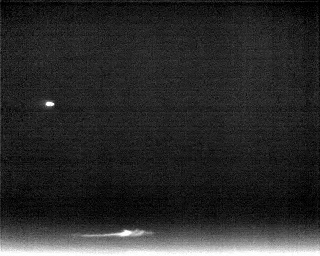AIRPLANE: (43, 98, 56, 109)
